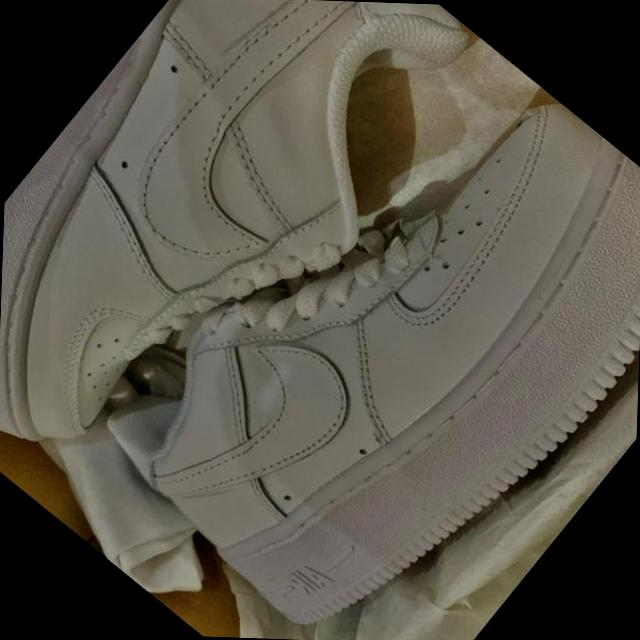nike_fake_airforce: (89, 0, 640, 640), (0, 0, 509, 554)
